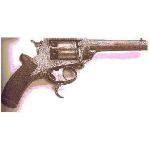Pistol: (0, 37, 148, 107)
